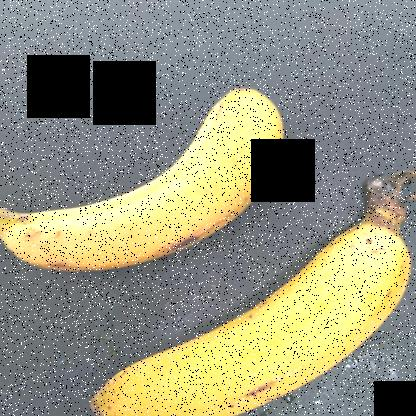freshripe: (74, 233, 415, 416), (0, 79, 298, 269)
